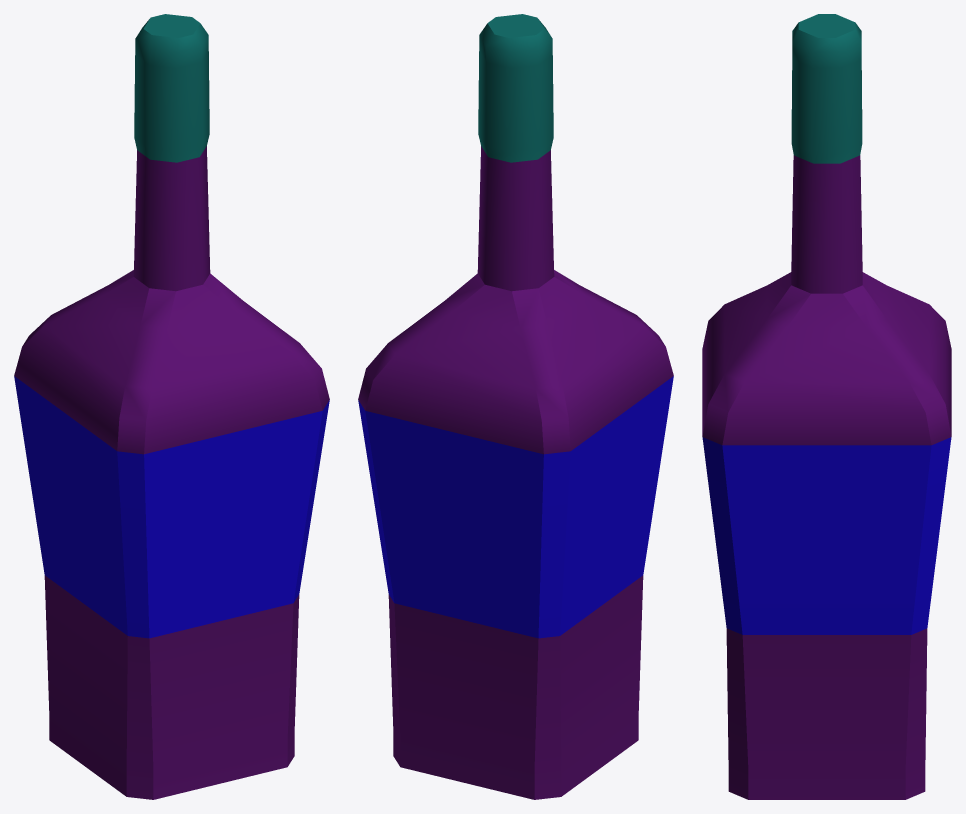
3 views of the same model, side by side, from view 1: azimuth 30°, elevation 25°; view 2: azimuth 150°, elevation 25°; view 3: azimuth 270°, elevation 25° (orthographic).
Visible parts, largest first — view 1: B8; view 2: B8; view 3: B8.
Part boxes in pixels (left/top/right/bottom): B8: left=14, top=14, right=329, bottom=799; B8: left=358, top=14, right=673, bottom=799; B8: left=702, top=14, right=951, bottom=799.
Bounding box in the file's own units: 57.37 × 186 × 57.37.
